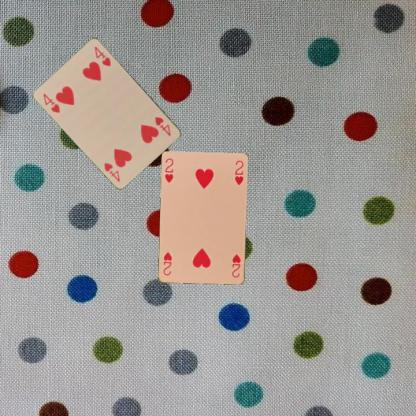2h: (229, 251, 242, 279), (162, 156, 174, 184)
4h: (40, 91, 62, 114), (153, 114, 172, 137)
